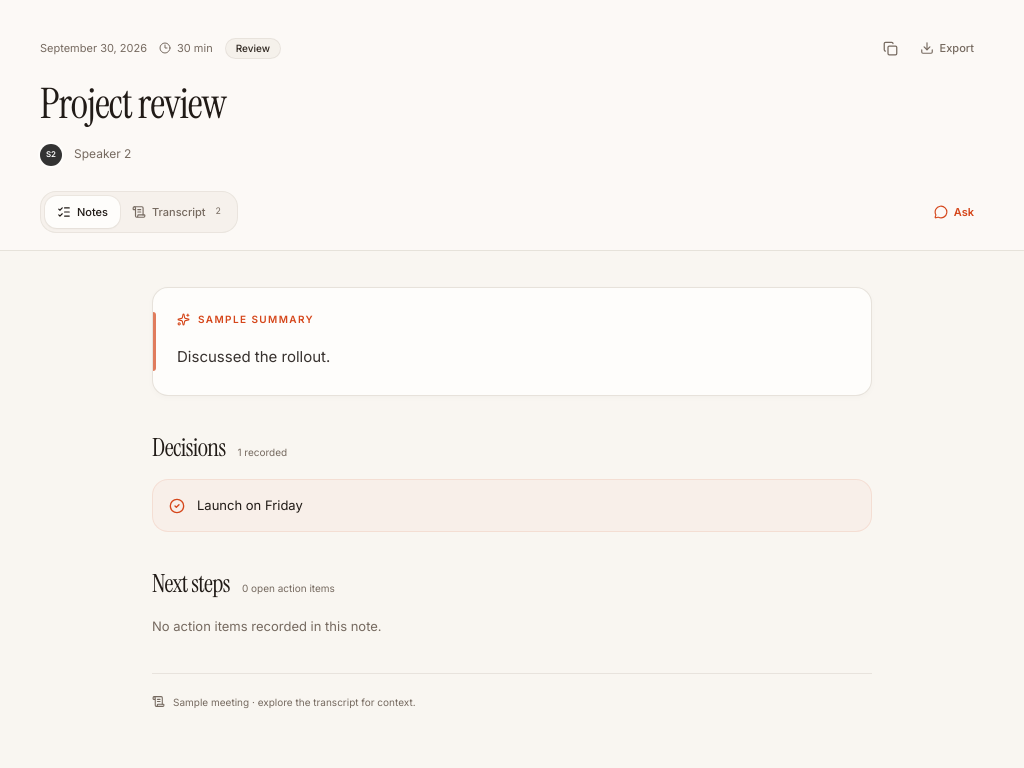
Test: meeting details › downloads an Obsidian note through the export menu without opening a vault
The width and height of the screenshot is (1024, 768).
What coordinates should you click on to do the following:
click the button "Export"
I would click on:
 (947, 48)
Its box is 910,32 -> 984,64.
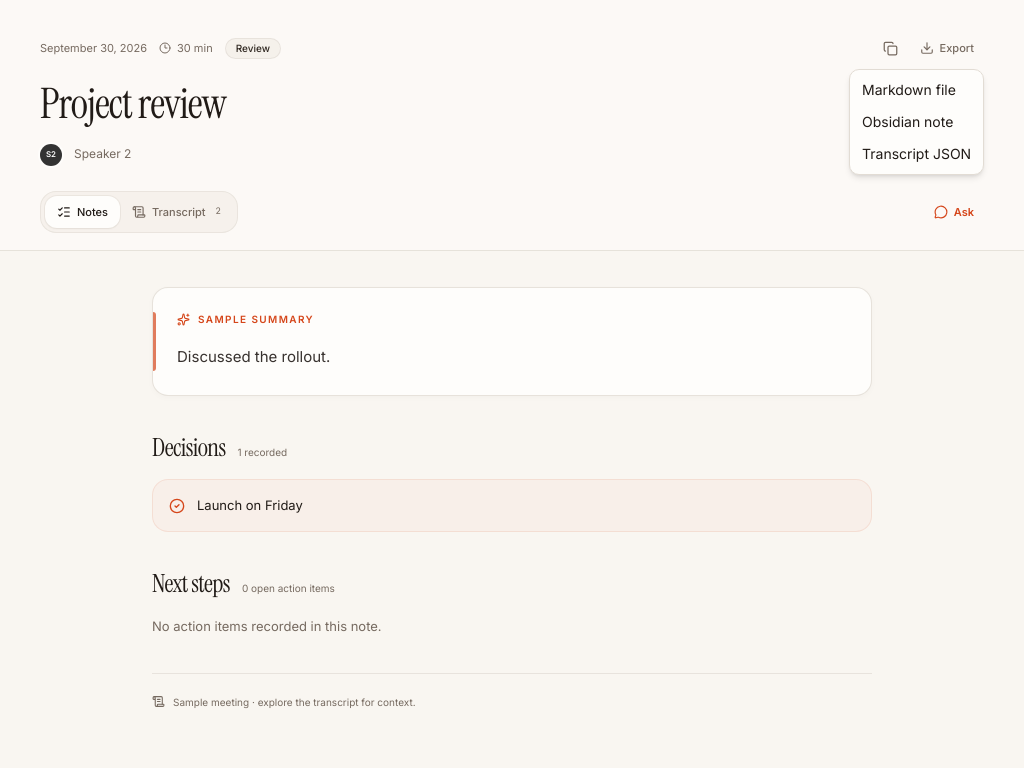
What coordinates should you click on to do the following:
click the menu item "Obsidian note"
I would click on:
 (908, 122)
Its box is 862,113 -> 953,130.
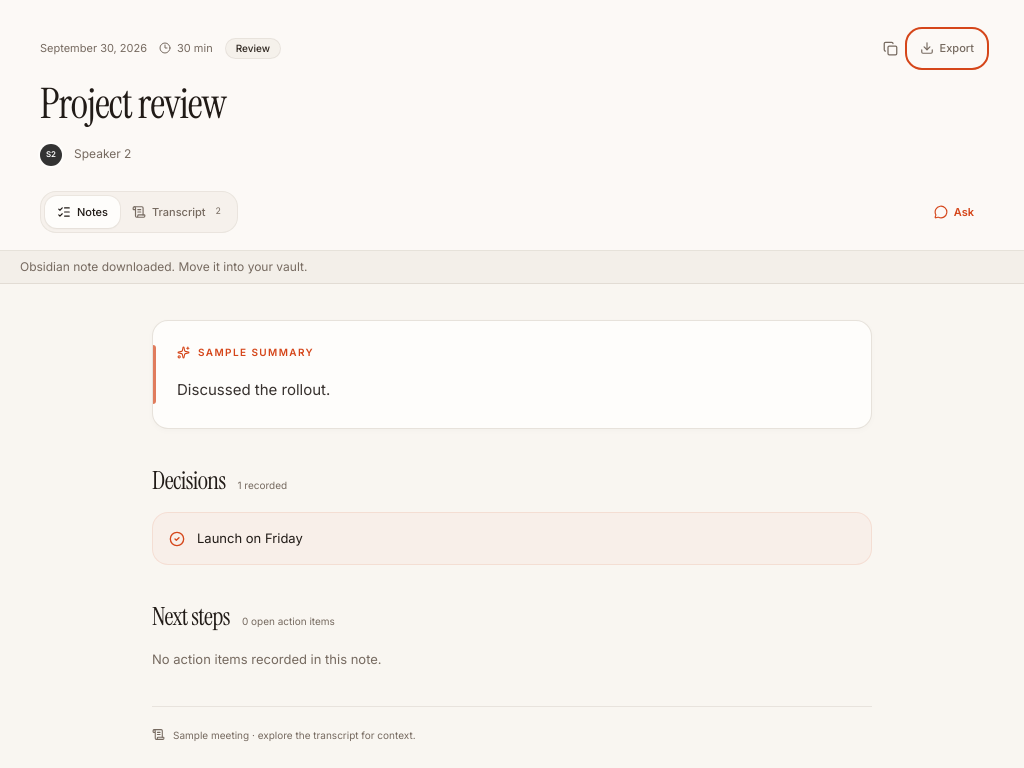
Expected: the message shows "Move it into your vault.", 20,259 -> 307,274
